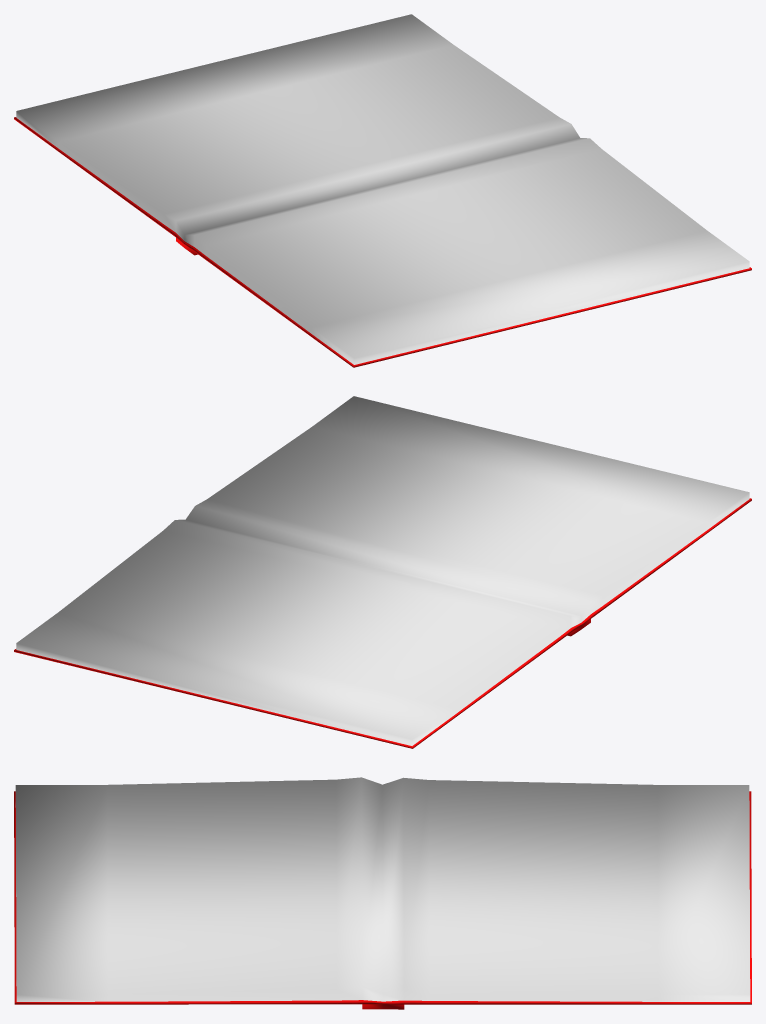
File: Notebook.fbx
The picture shows the model from 3 angles, top to bottom: view 1: azimuth 30°, elevation 25°; view 2: azimuth 150°, elevation 25°; view 3: azimuth 270°, elevation 25°; orthographic projection. The views are drawn at different scales.
Visible parts, largest first — view 1: Book A4 1cm Thickness.001; view 2: Book A4 1cm Thickness.001; view 3: Book A4 1cm Thickness.001.
Boxes of the visible parts, x1,y1,x2,y2 form: Book A4 1cm Thickness.001: (14, 14, 751, 367); Book A4 1cm Thickness.001: (14, 396, 751, 748); Book A4 1cm Thickness.001: (14, 777, 751, 1009).
Bounding box in the file's own units: 28.26 × 1.38 × 41.64.
